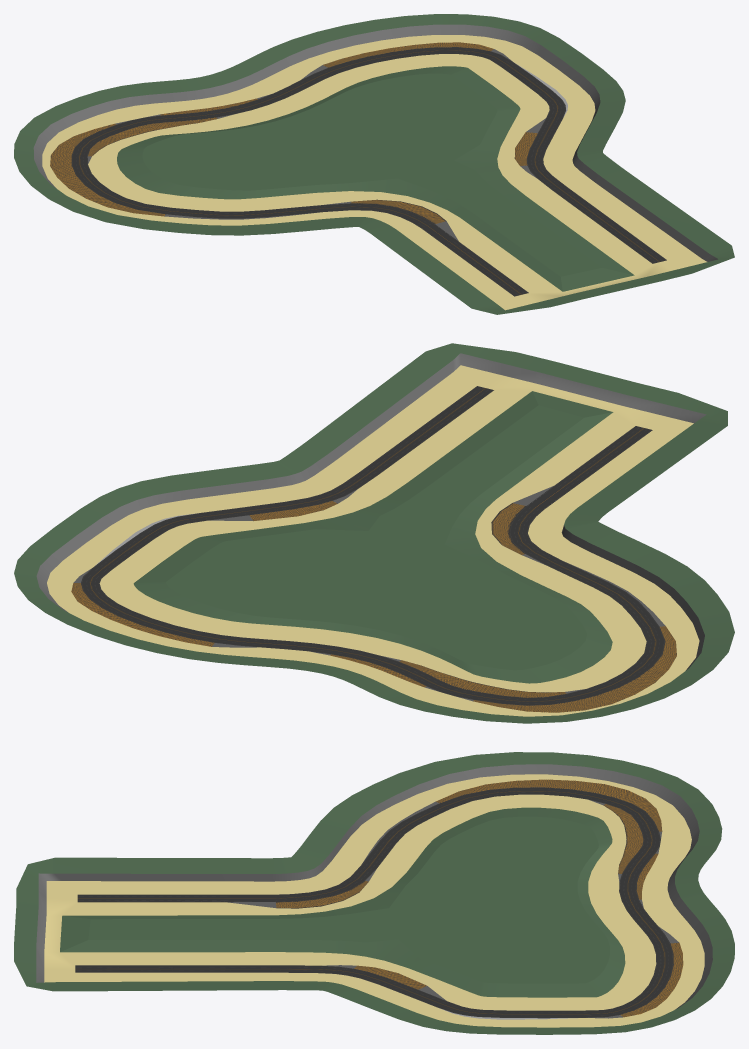
Rendered from race1.fbx.
3 renders of one model, top to bottom at view 1: azimuth 30°, elevation 25°; view 2: azimuth 150°, elevation 25°; view 3: azimuth 270°, elevation 25°, orthographic. The views are drawn at different scales.
Visible parts, largest first — view 1: trassa1; view 2: trassa1; view 3: trassa1.
Boxes of the visible parts, x1,y1,x2,y2 form: trassa1: (14, 14, 734, 314); trassa1: (14, 343, 734, 723); trassa1: (14, 752, 734, 1034).
Bounding box in the file's own units: 58069 × 896 × 62572.
7 materials, 2 textured.
